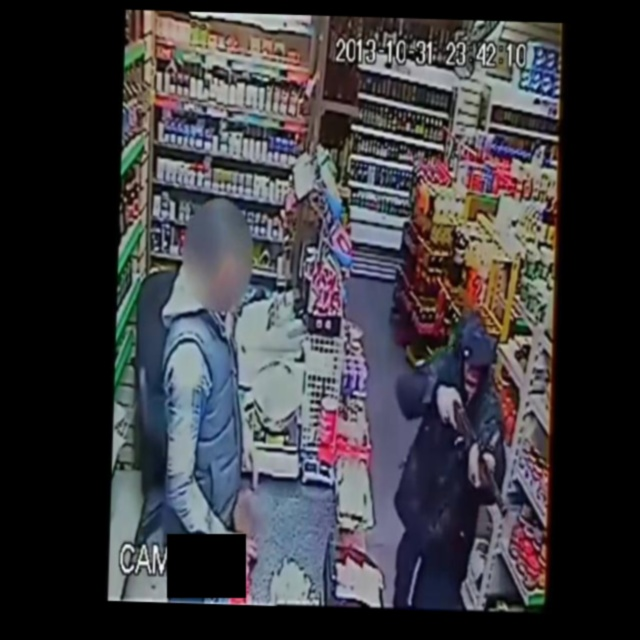gun: (437, 385, 522, 521)
